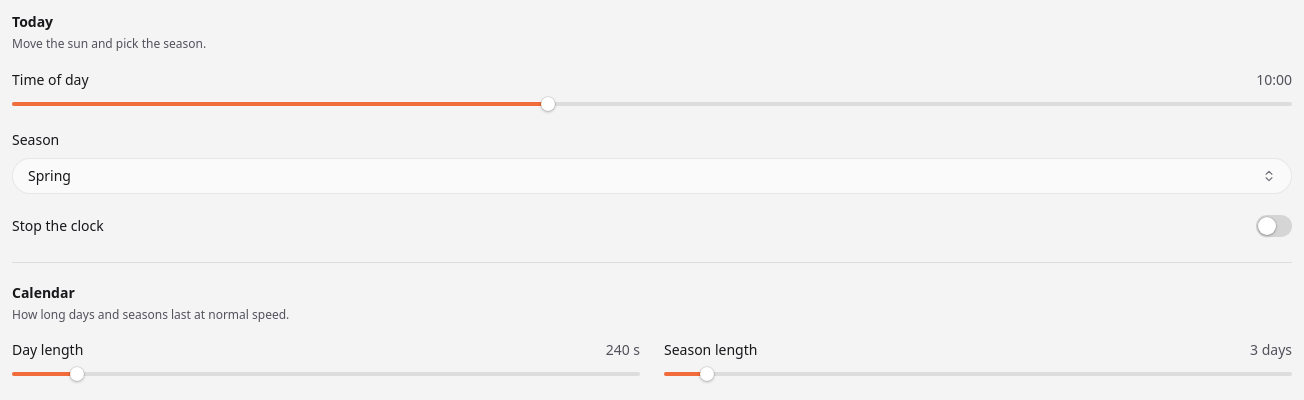
Test: time section › offers every season
Click the dropdown named "Season": (49, 175) [12,158,1292,194]
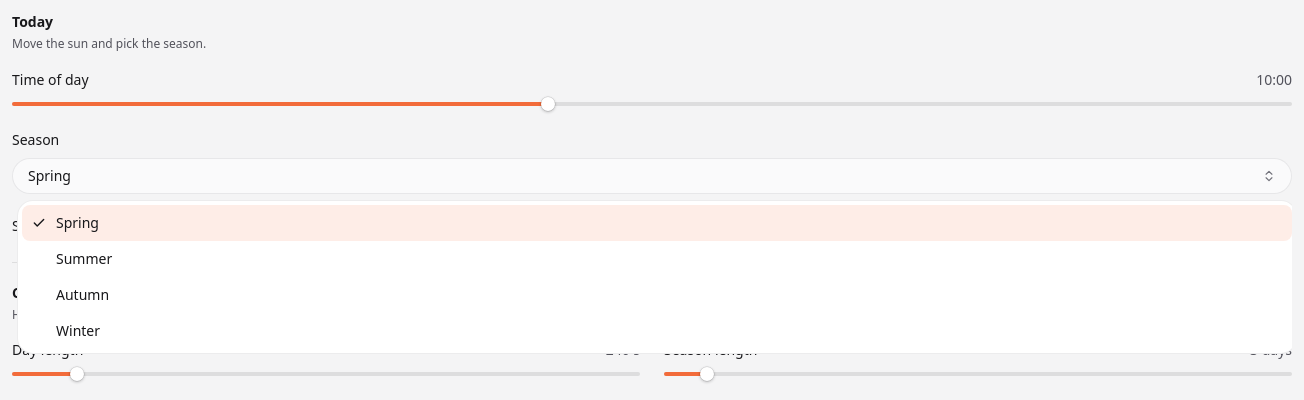
Expected: the option "Spring" is shown, [22,205,1292,241]
Expected: the option "Summer" is shown, [56,249,112,268]
Expected: the option "Autumn" is shown, [56,285,109,304]
